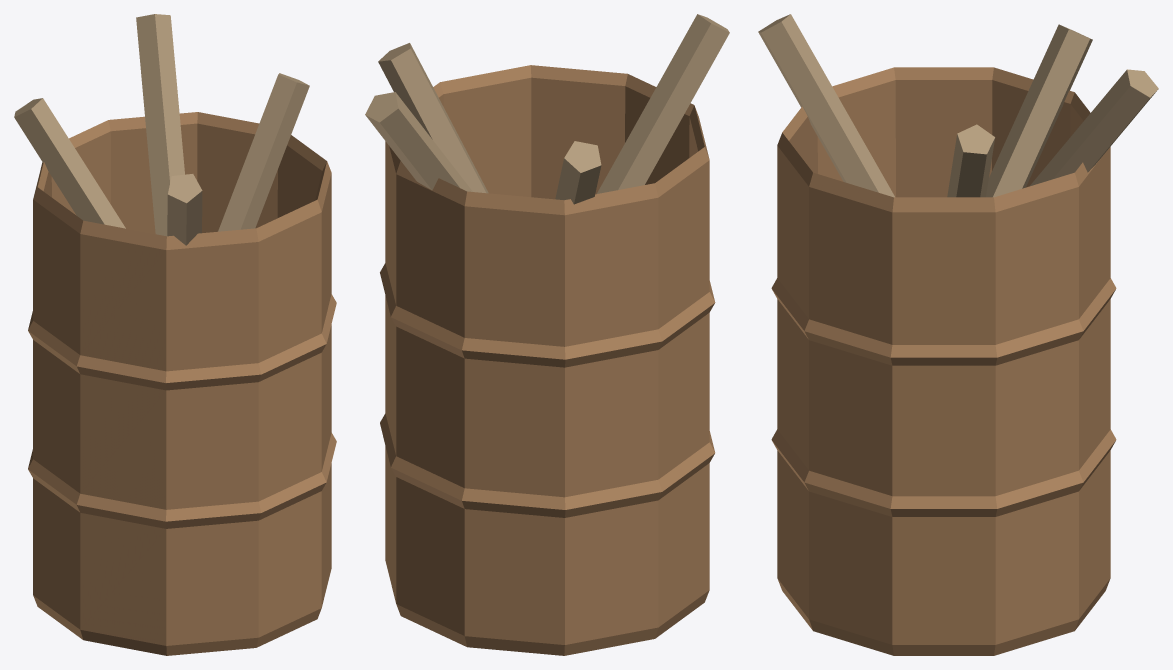
Rendered from barrel_fire.glb.
3 renders of one model, left to right at view 1: azimuth 30°, elevation 25°; view 2: azimuth 150°, elevation 25°; view 3: azimuth 270°, elevation 25°, orthographic. The views are drawn at different scales.
Visible parts, largest first — view 1: drum, firewood; view 2: drum, firewood; view 3: drum, firewood.
Boxes of the visible parts, box(x1,y1,x2,y2) form: drum: box(28, 112, 336, 655); firewood: box(14, 14, 309, 245); drum: box(380, 65, 715, 655); firewood: box(365, 14, 729, 204); drum: box(771, 67, 1116, 655); firewood: box(758, 14, 1158, 197).
Size of the model in its own units: 0.5849 by 1.06 by 0.6972.
